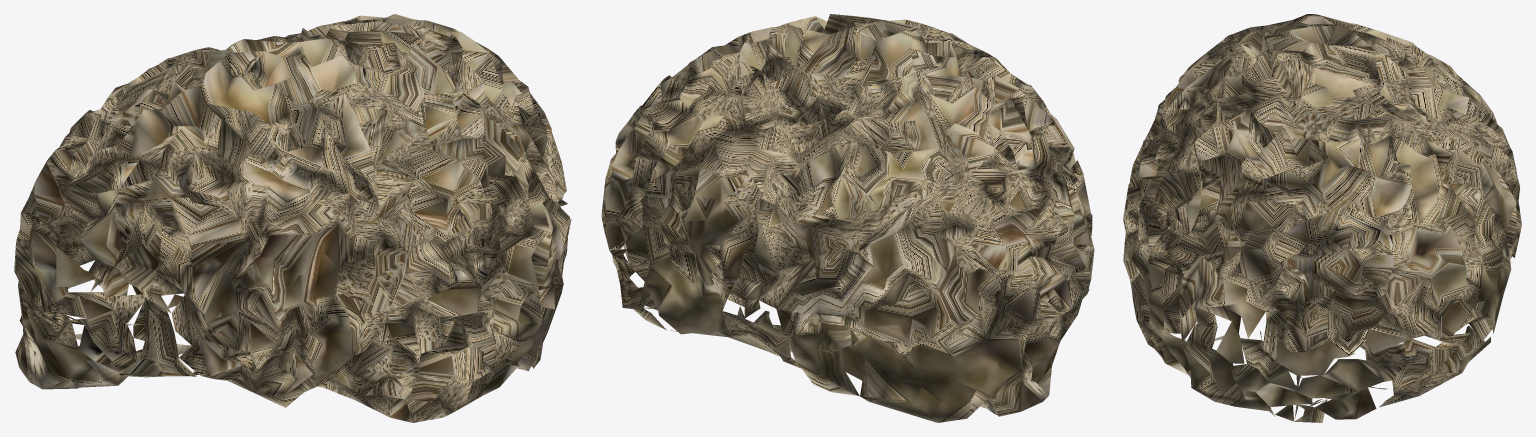
File: goniastrea_coral_lod1.glb
3 views of the same model, side by side, from view 1: azimuth 30°, elevation 25°; view 2: azimuth 150°, elevation 25°; view 3: azimuth 270°, elevation 25° (orthographic). The views are drawn at different scales.
Visible parts, largest first — view 1: Object_4, Object_5; view 2: Object_4, Object_5; view 3: Object_4, Object_5.
Part boxes in pixels (left/top/right/bottom): Object_4: left=14, top=14, right=570, bottom=422; Object_5: left=56, top=219, right=571, bottom=376; Object_4: left=601, top=14, right=1094, bottom=422; Object_5: left=611, top=212, right=1092, bottom=368; Object_4: left=1123, top=14, right=1521, bottom=421; Object_5: left=1183, top=256, right=1512, bottom=422.
Bounding box in the file's own units: 0.0909 × 0.059 × 0.0716.
1 material, 1 textured.
